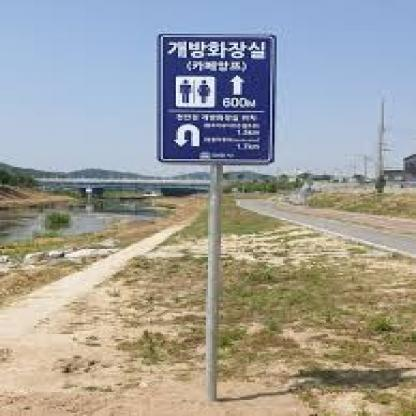toilet: (180, 79, 210, 103)
